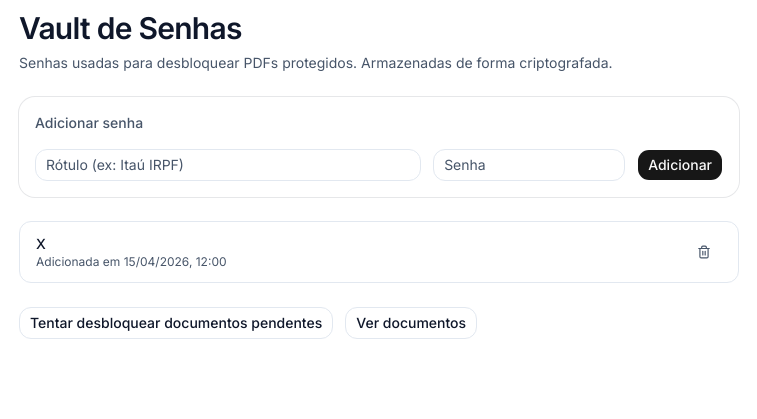
Test: VaultPage › retry-unlock com 0 desbloqueios mostra mensagem 'nenhum'
Expected: the text "X" is shown, x1=36 y1=235 x2=46 y2=252
Click the button "Tentar desbloquear documentos pendentes": (176, 323) x1=19 y1=307 x2=333 y2=339
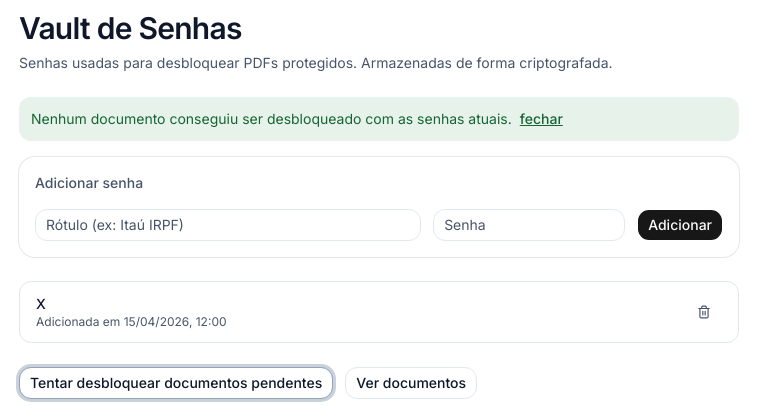
Expected: the text "Nenhum documento conseguiu ser desbloqueado" is shown, x1=31 y1=110 x2=512 y2=127
